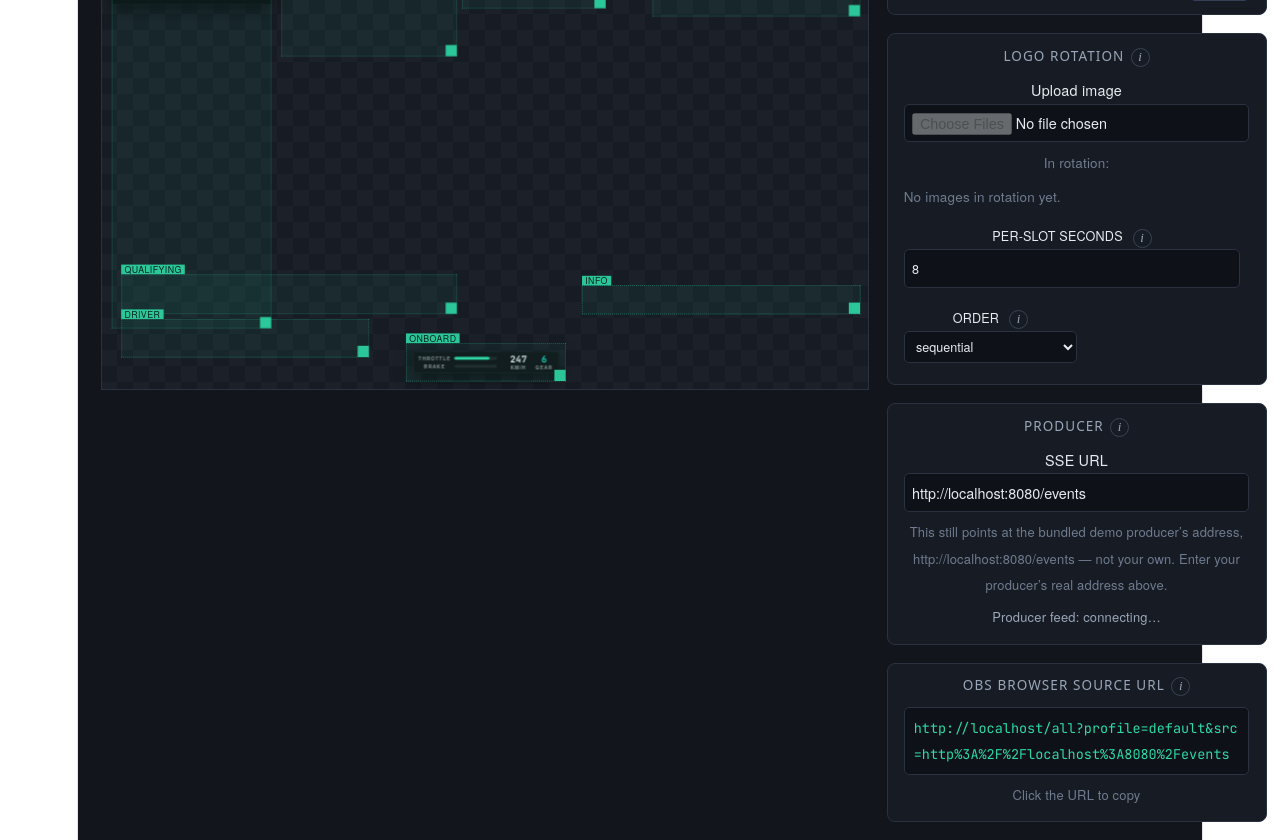
Test: ConfigPage editor wiring › editing the producer src updates the OBS URL
(page scrolled)
Type "http://p:8/events" into the field with test id "producer-src".
click(1076, 493); type("http://p:8/events")  # box [904, 473, 1249, 512]
(page scrolled)
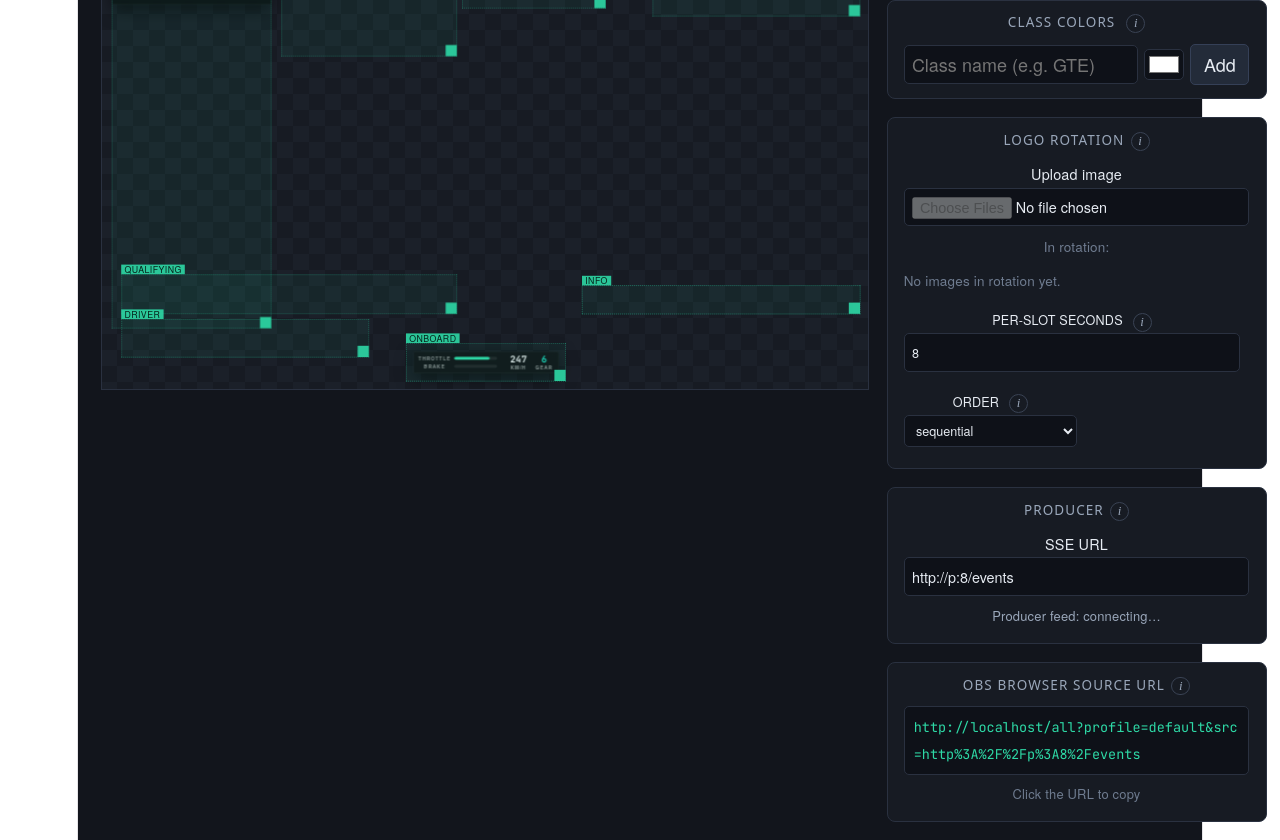
Check: the button with test id "obs-url" shows "src=http%3A%2F%2Fp%3A8%2Fevents", box [904, 706, 1249, 775]
